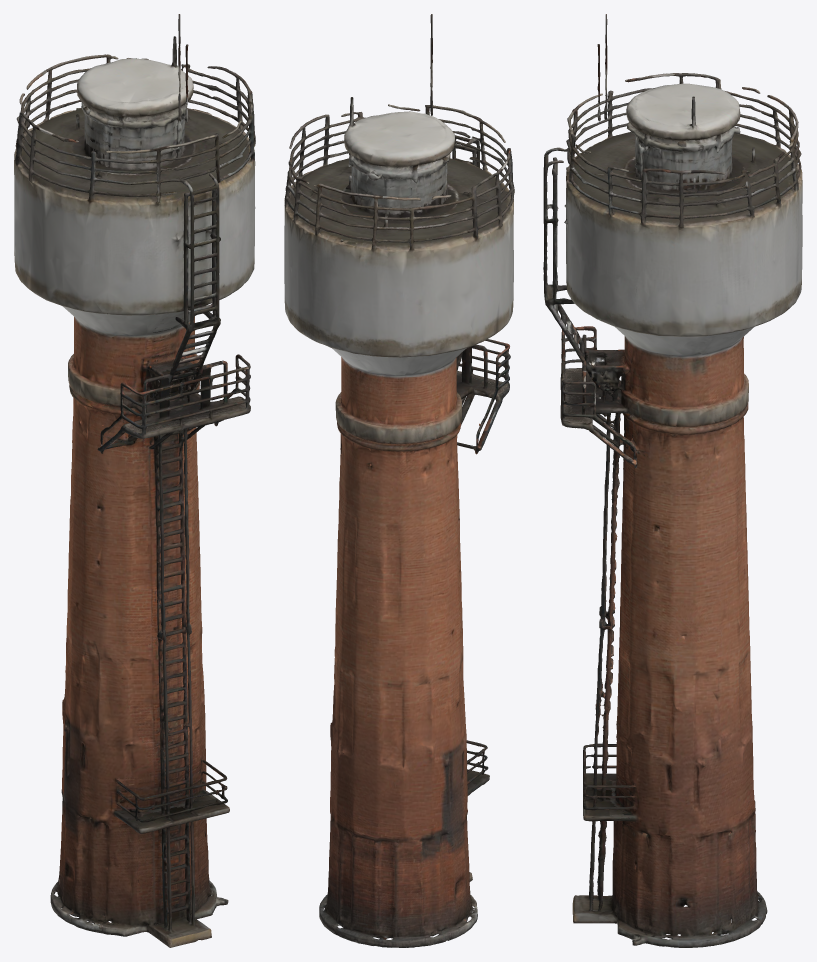
Rendered from water_tower_brick.glb.
3 views of the same model, side by side, from view 1: azimuth 30°, elevation 25°; view 2: azimuth 150°, elevation 25°; view 3: azimuth 270°, elevation 25° (orthographic). The views are drawn at different scales.
Parts seen in each view (by area): view 1: water_tower_brick; view 2: water_tower_brick; view 3: water_tower_brick.
Boxes of the visible parts, left/top/right/bottom form: water_tower_brick: left=14, top=14, right=255, bottom=947; water_tower_brick: left=284, top=14, right=514, bottom=947; water_tower_brick: left=543, top=14, right=802, bottom=947.
Bounding box in the file's own units: 0.4734 × 1.93 × 0.5034.
1 material, 1 textured.
